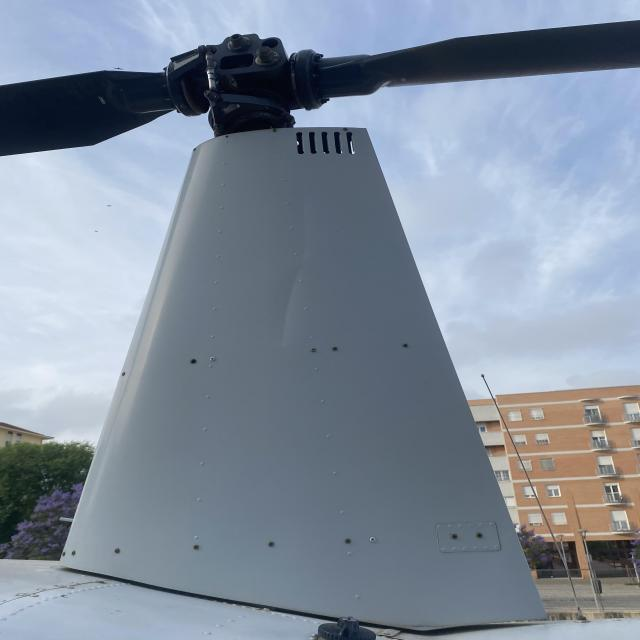Dent: (265, 175, 324, 361)
